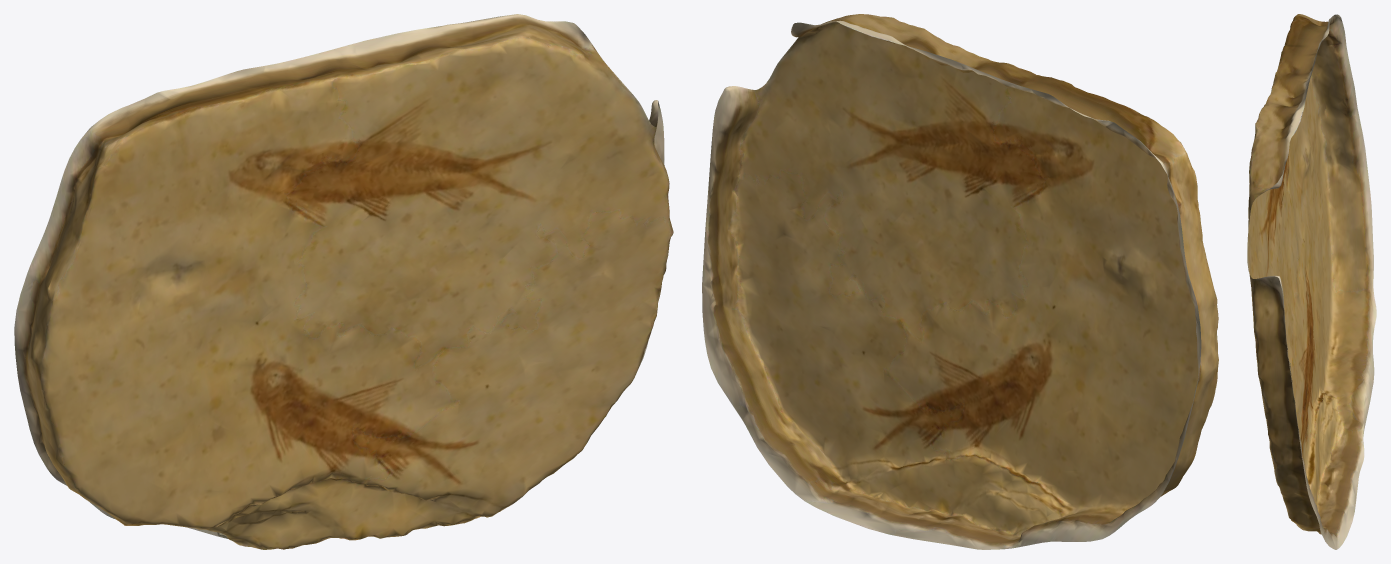
File: PRP_FossilFish.glb
The picture shows the model from 3 angles, left to right: view 1: azimuth 30°, elevation 25°; view 2: azimuth 150°, elevation 25°; view 3: azimuth 270°, elevation 25°; orthographic projection. The views are drawn at different scales.
Parts seen in each view (by area): view 1: Object_3; view 2: Object_3; view 3: Object_3.
Boxes of the visible parts, box(x1,y1,x2,y2) form: Object_3: box(14, 14, 673, 549); Object_3: box(702, 14, 1218, 549); Object_3: box(1247, 14, 1376, 549).
Bounding box in the file's own units: 0.9885 × 0.8254 × 0.234.
1 material, 1 textured.
